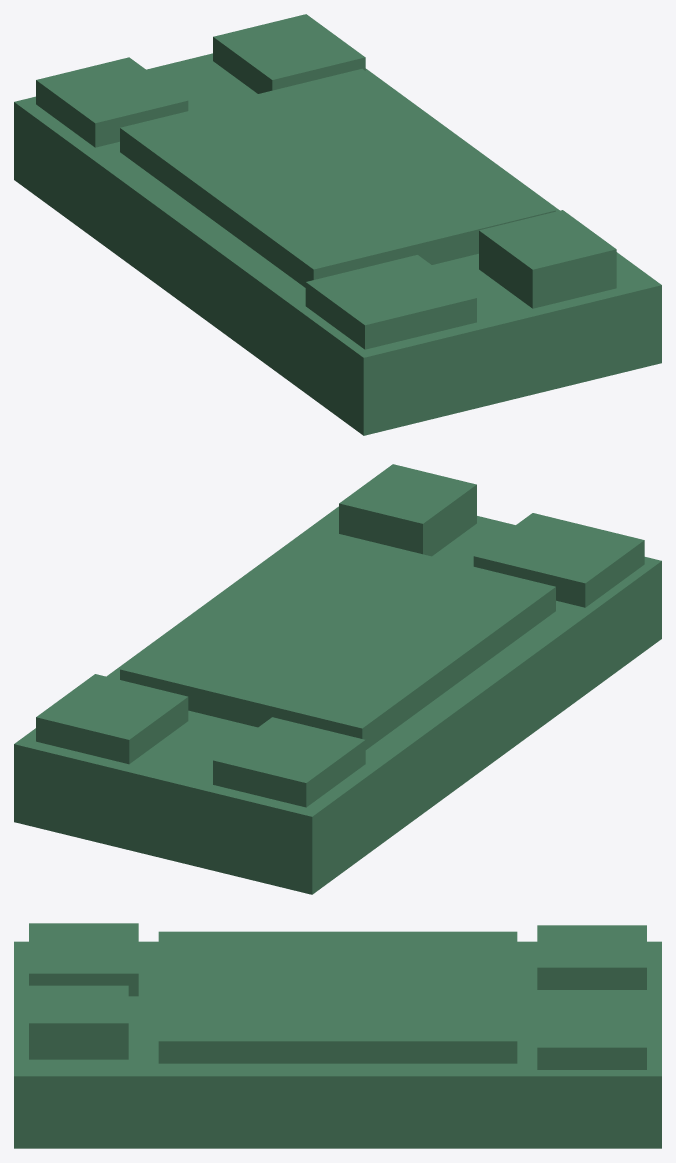
Rendered from Dock_Pad_PCB_v3_4d.glb.
The picture shows the model from 3 angles, top to bottom: view 1: azimuth 30°, elevation 25°; view 2: azimuth 150°, elevation 25°; view 3: azimuth 270°, elevation 25°; orthographic projection. The views are drawn at different scales.
Parts seen in each view (by area): view 1: Dock_Pad_PCB_v3_4d; view 2: Dock_Pad_PCB_v3_4d; view 3: Dock_Pad_PCB_v3_4d.
Part boxes in pixels (x1=…): Dock_Pad_PCB_v3_4d: x1=14, y1=14, x2=661, y2=435; Dock_Pad_PCB_v3_4d: x1=14, y1=464, x2=661, y2=894; Dock_Pad_PCB_v3_4d: x1=14, y1=923, x2=661, y2=1148.
Size of the model in its own units: 6.4 by 2.45 by 13.
